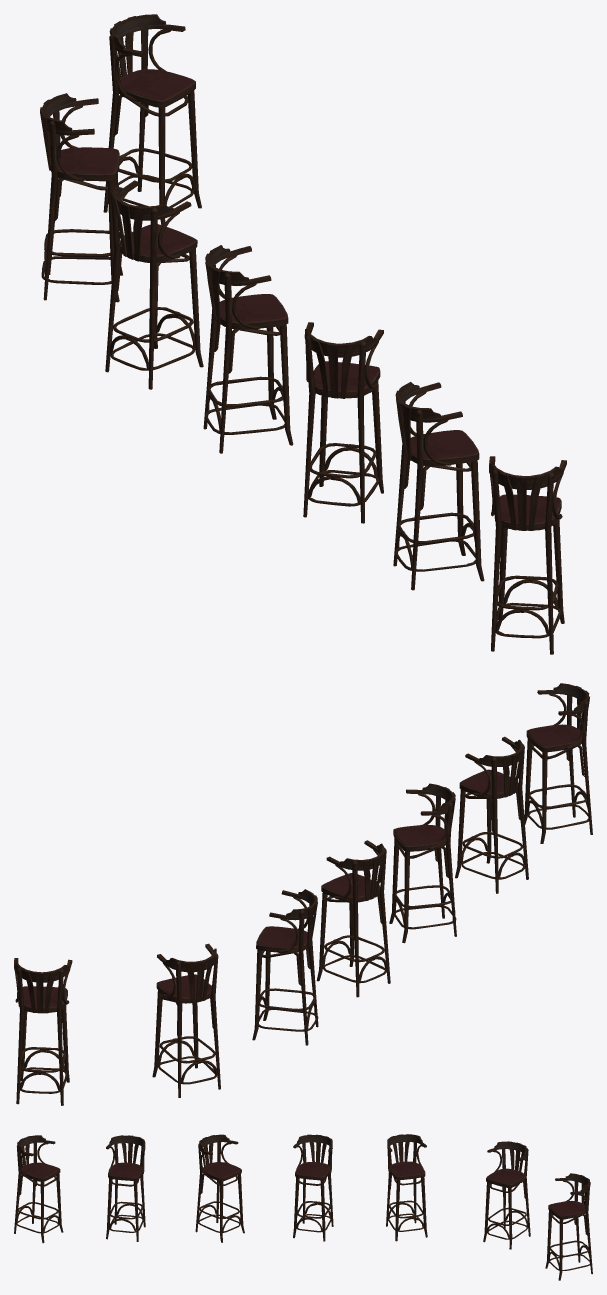
The picture shows the model from 3 angles, top to bottom: view 1: azimuth 30°, elevation 25°; view 2: azimuth 150°, elevation 25°; view 3: azimuth 270°, elevation 25°; orthographic projection. The views are drawn at different scales.
Parts seen in each view (by area): view 1: Bistro_Research_Interior_Paris_Barstool_01A_2106, Bistro_Research_Interior_Paris_Barstool_01A2_2110, Bistro_Research_Interior_Paris_Barstool_01A3_2112, Bistro_Research_Interior_Paris_Barstool_01A5_2116, Bistro_Research_Interior_Paris_Barstool_01A4_2114, Bistro_Research_Interior_Paris_Barstool_01A6_2118, Bistro_Research_Interior_Paris_Barstool_01A1_2108; view 2: Bistro_Research_Interior_Paris_Barstool_01A5_2116, Bistro_Research_Interior_Paris_Barstool_01A6_2118, Bistro_Research_Interior_Paris_Barstool_01A3_2112, Bistro_Research_Interior_Paris_Barstool_01A1_2108, Bistro_Research_Interior_Paris_Barstool_01A4_2114, Bistro_Research_Interior_Paris_Barstool_01A2_2110, Bistro_Research_Interior_Paris_Barstool_01A_2106; view 3: Bistro_Research_Interior_Paris_Barstool_01A2_2110, Bistro_Research_Interior_Paris_Barstool_01A1_2108, Bistro_Research_Interior_Paris_Barstool_01A5_2116, Bistro_Research_Interior_Paris_Barstool_01A3_2112, Bistro_Research_Interior_Paris_Barstool_01A4_2114, Bistro_Research_Interior_Paris_Barstool_01A6_2118, Bistro_Research_Interior_Paris_Barstool_01A_2106.
Part boxes in pixels (box(x1,y1,x2,y2)): Bistro_Research_Interior_Paris_Barstool_01A_2106: box(103, 14, 201, 225); Bistro_Research_Interior_Paris_Barstool_01A2_2110: box(105, 180, 203, 389); Bistro_Research_Interior_Paris_Barstool_01A3_2112: box(203, 245, 293, 453); Bistro_Research_Interior_Paris_Barstool_01A5_2116: box(393, 382, 484, 590); Bistro_Research_Interior_Paris_Barstool_01A4_2114: box(303, 322, 383, 523); Bistro_Research_Interior_Paris_Barstool_01A6_2118: box(489, 456, 566, 654); Bistro_Research_Interior_Paris_Barstool_01A1_2108: box(40, 93, 122, 302); Bistro_Research_Interior_Paris_Barstool_01A5_2116: box(455, 736, 528, 893); Bistro_Research_Interior_Paris_Barstool_01A6_2118: box(524, 683, 592, 843); Bistro_Research_Interior_Paris_Barstool_01A3_2112: box(316, 840, 390, 997); Bistro_Research_Interior_Paris_Barstool_01A1_2108: box(152, 943, 220, 1097); Bistro_Research_Interior_Paris_Barstool_01A4_2114: box(389, 783, 456, 943); Bistro_Research_Interior_Paris_Barstool_01A2_2110: box(252, 889, 318, 1045); Bistro_Research_Interior_Paris_Barstool_01A_2106: box(14, 958, 72, 1105); Bistro_Research_Interior_Paris_Barstool_01A2_2110: box(386, 1134, 427, 1241); Bistro_Research_Interior_Paris_Barstool_01A1_2108: box(483, 1141, 530, 1249); Bistro_Research_Interior_Paris_Barstool_01A5_2116: box(106, 1135, 145, 1241); Bistro_Research_Interior_Paris_Barstool_01A3_2112: box(293, 1134, 333, 1241); Bistro_Research_Interior_Paris_Barstool_01A4_2114: box(195, 1134, 244, 1242); Bistro_Research_Interior_Paris_Barstool_01A6_2118: box(14, 1135, 63, 1243); Bistro_Research_Interior_Paris_Barstool_01A_2106: box(545, 1173, 592, 1280).
Bounding box in the file's own units: 1.38 × 0.9822 × 5.73.
1 material, 1 textured.
